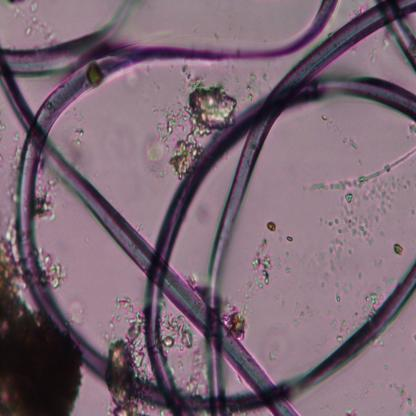Background material: (0, 282, 82, 414), (302, 176, 393, 292), (309, 144, 416, 196), (107, 328, 146, 414), (186, 88, 238, 130), (14, 1, 57, 46), (260, 314, 292, 374), (382, 356, 412, 413), (247, 235, 275, 294), (141, 134, 168, 184), (102, 288, 144, 320), (161, 314, 193, 355), (62, 114, 91, 159), (158, 104, 188, 142), (171, 132, 199, 170), (41, 253, 66, 289), (36, 182, 58, 220), (122, 62, 147, 91), (226, 307, 248, 339), (196, 201, 216, 233), (362, 288, 378, 320), (330, 318, 347, 342), (392, 241, 404, 258), (344, 191, 355, 209), (285, 229, 297, 244), (266, 221, 276, 233)
Microfibre: (26, 0, 416, 408), (0, 59, 299, 415), (204, 0, 415, 414), (0, 1, 137, 72), (375, 0, 416, 73)
